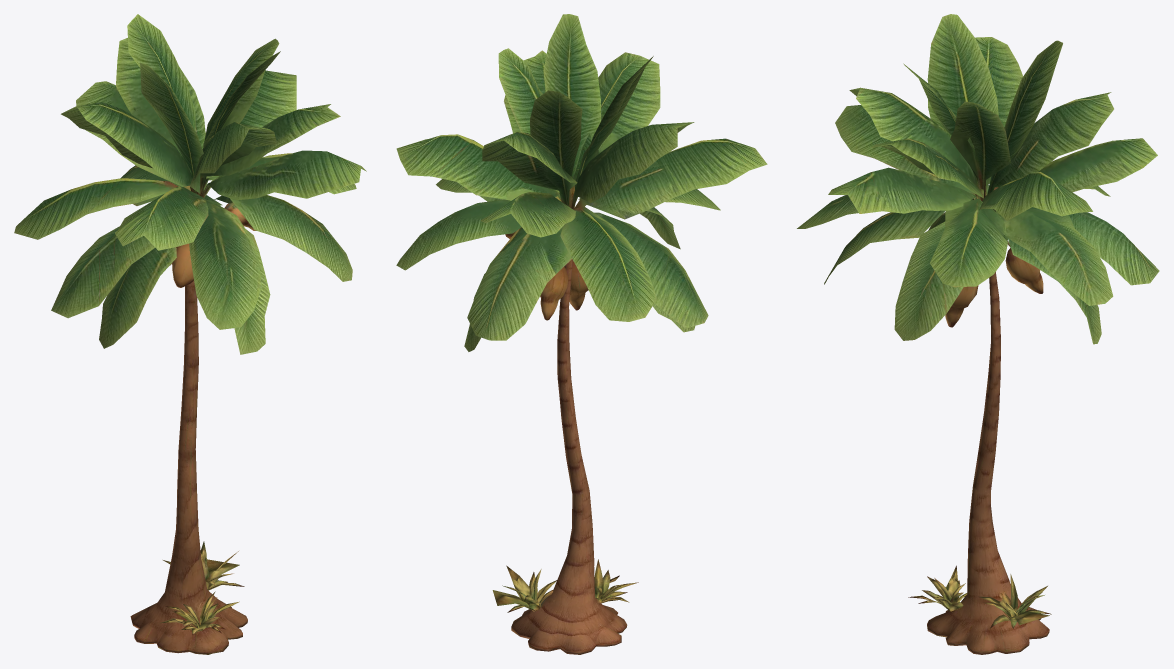
Rendered from palmTree.glb.
3 renders of one model, left to right at view 1: azimuth 30°, elevation 25°; view 2: azimuth 150°, elevation 25°; view 3: azimuth 270°, elevation 25°, orthographic. The views are drawn at different scales.
Bounding box in the file's own units: 0.4785 × 0.9526 × 0.5357.
Materials: 1 (1 with a texture image).
